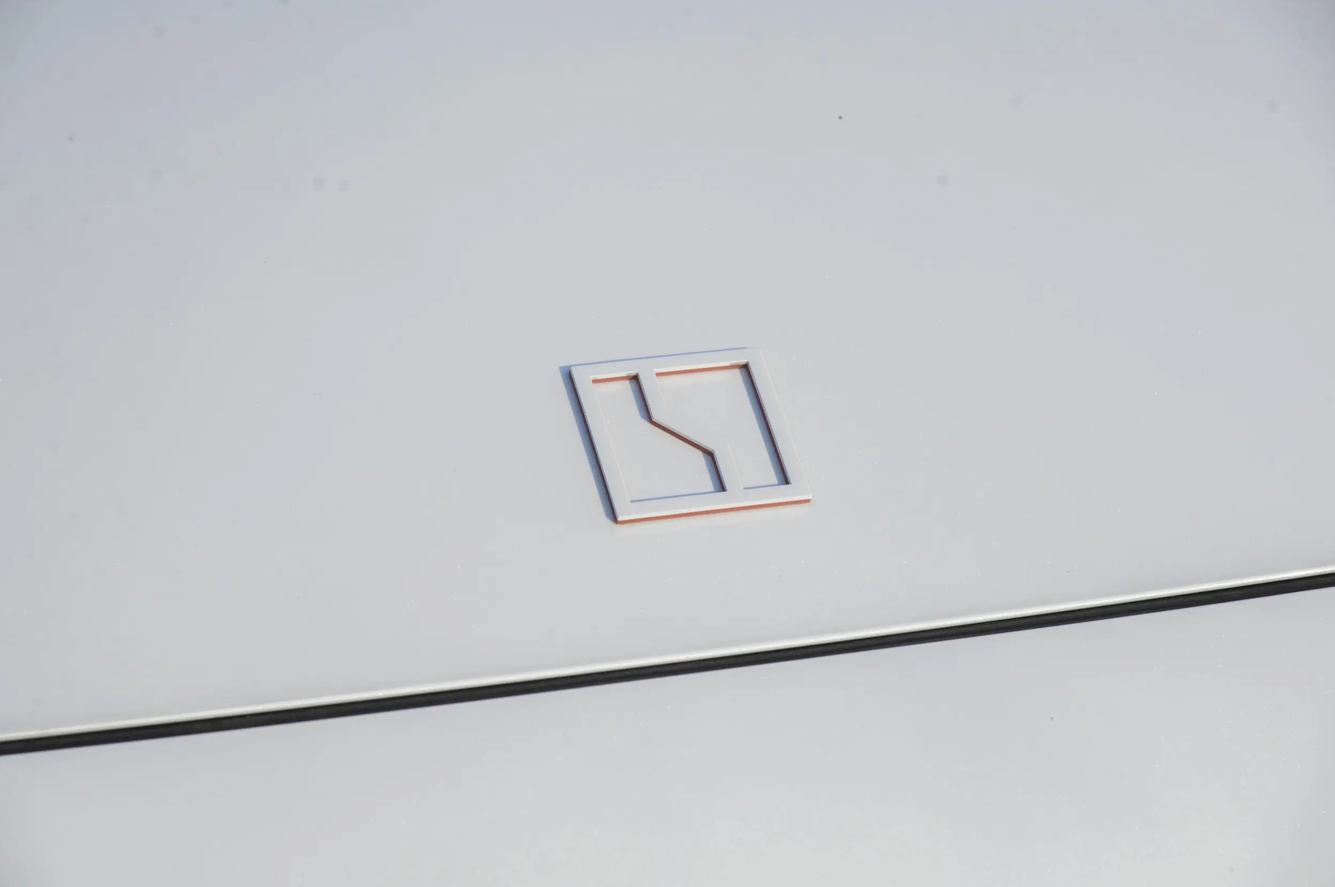ZEEKR: (570, 348, 811, 523)
